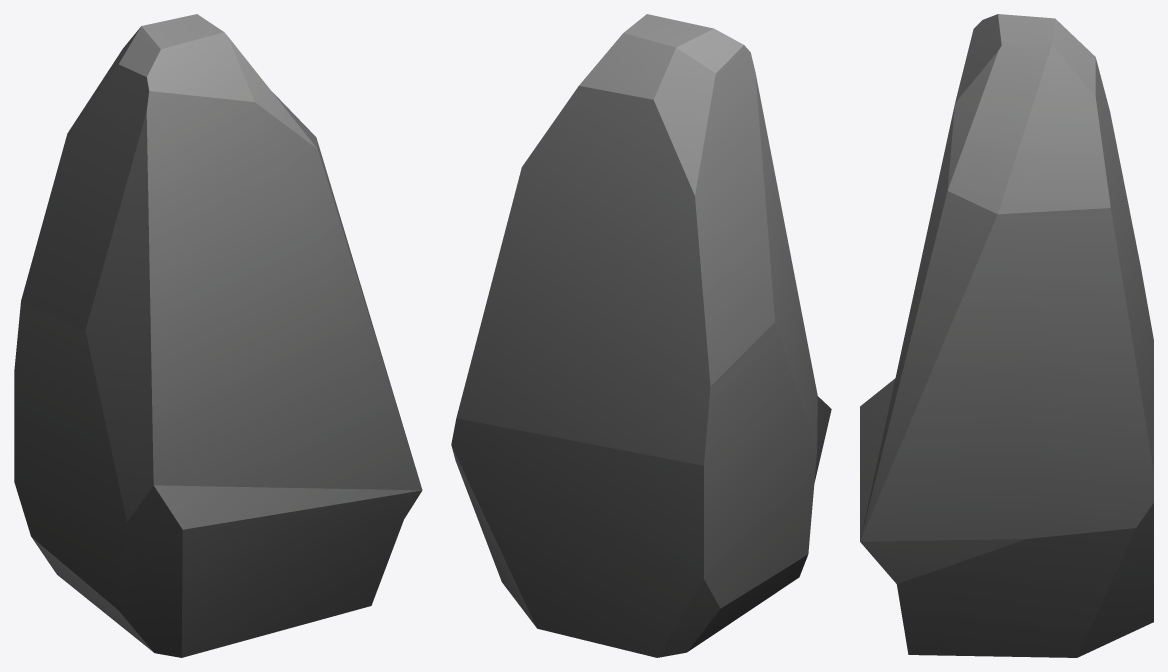
File: SM_Rock_Big_02.fbx
3 views of the same model, side by side, from view 1: azimuth 30°, elevation 25°; view 2: azimuth 150°, elevation 25°; view 3: azimuth 270°, elevation 25° (orthographic).
Parts seen in each view (by area): view 1: SM_Rock_Big_02; view 2: SM_Rock_Big_02; view 3: SM_Rock_Big_02.
Boxes of the visible parts, bbox=[...] form: SM_Rock_Big_02: bbox=[14, 14, 422, 657]; SM_Rock_Big_02: bbox=[451, 14, 831, 657]; SM_Rock_Big_02: bbox=[860, 14, 1153, 657].
Bounding box in the file's own units: 267 × 553 × 263.
